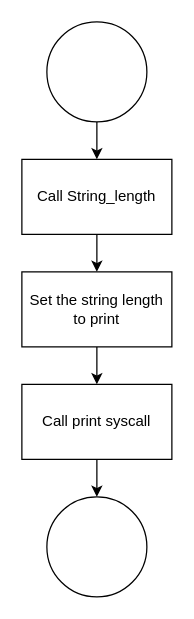
The diagram is 194 pixels wide and 619 high, and some of its shapes have lost their labels. The shapes that lost their labels are listed below. From the top down, each one's centre as x and y in pixels, then its label:
At point (96, 71): "Start".
At point (96, 546): "End".
